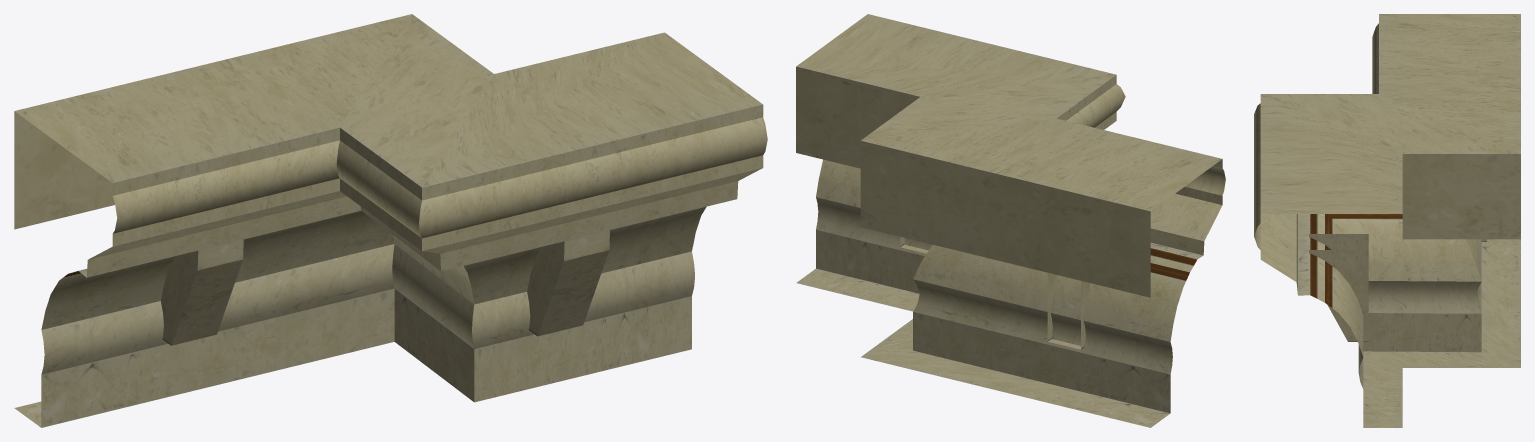
Rendered from Cornice_Trim_90Angle_R.gltf.
3 renders of one model, left to right at view 1: azimuth 30°, elevation 25°; view 2: azimuth 150°, elevation 25°; view 3: azimuth 270°, elevation 25°, orthographic. The views are drawn at different scales.
Parts seen in each view (by area): view 1: Cornice_Trim_90Angle_R; view 2: Cornice_Trim_90Angle_R; view 3: Cornice_Trim_90Angle_R.
Boxes of the visible parts, left/top/right/bottom form: Cornice_Trim_90Angle_R: left=14, top=14, right=767, bottom=427; Cornice_Trim_90Angle_R: left=796, top=14, right=1225, bottom=427; Cornice_Trim_90Angle_R: left=1254, top=14, right=1520, bottom=427.
Size of the model in its own units: 2 by 0.9984 by 1.13.
1 material, 1 textured.
